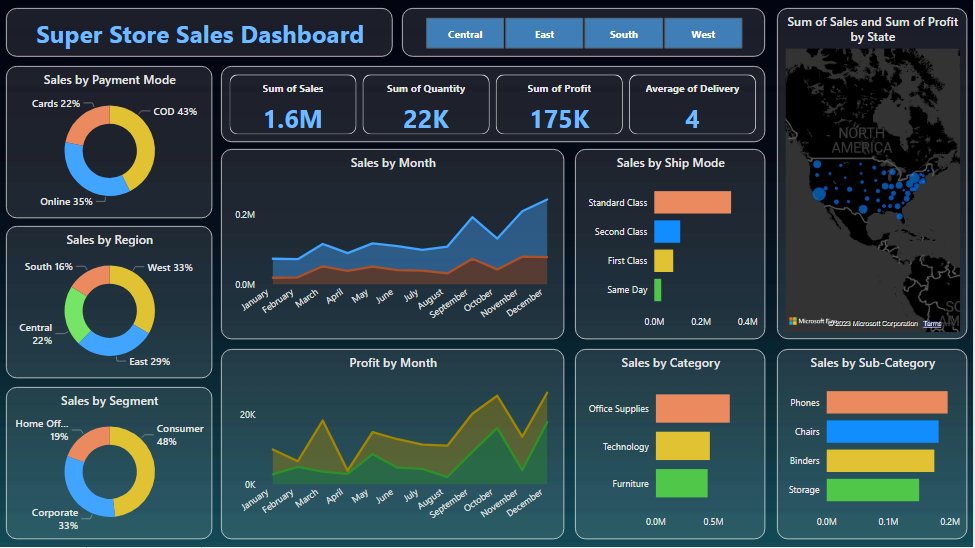

The page's visual inventory and layout, read from the dashboard file:
{"tool":"powerbi","page":{"name":"Dashboard","canvas":[1280,720],"ordinal":0},"visuals":[{"type":"clusteredBarChart","title":"Sales by Category","fields":{"Category":["SuperStore_Sales_Dataset.Category"],"Y":["Sum(SuperStore_Sales_Dataset.Sales)"]},"box":[756.8,459.8,250,249.6],"z":0,"group":"g1"},{"type":"clusteredBarChart","title":"Sales by Sub-Category","fields":{"Category":["SuperStore_Sales_Dataset.Sub-Category"],"Y":["Sum(SuperStore_Sales_Dataset.Sales)"]},"box":[1022.2,459.8,250,249.6],"z":1000,"group":"g1"},{"type":"clusteredBarChart","title":"Sales by Ship Mode","fields":{"Category":["SuperStore_Sales_Dataset.Ship Mode"],"Y":["Sum(SuperStore_Sales_Dataset.Sales)"]},"box":[756.8,197.1,249.6,249.6],"z":2000,"group":"g1"},{"type":"stackedAreaChart","title":"Sales by Month","fields":{"Category":["SuperStore_Sales_Dataset.Order Date.Variation.Date Hierarchy.Month","SuperStore_Sales_Dataset.Order Date.Variation.Date Hierarchy.Day"],"Y":["Sum(SuperStore_Sales_Dataset.Sales)"],"Series":["SuperStore_Sales_Dataset.Order Date.Variation.Date Hierarchy.Year"]},"box":[291.7,197.1,450.7,249.6],"z":3000,"group":"g1"},{"type":"stackedAreaChart","title":"Profit by Month","fields":{"Category":["SuperStore_Sales_Dataset.Order Date.Variation.Date Hierarchy.Month","SuperStore_Sales_Dataset.Order Date.Variation.Date Hierarchy.Day"],"Y":["Sum(SuperStore_Sales_Dataset.Profit)"],"Series":["SuperStore_Sales_Dataset.Order Date.Variation.Date Hierarchy.Year"]},"box":[291.7,459.8,450.7,249.6],"z":4000,"group":"g1"},{"type":"map","fields":{"Category":["SuperStore_Sales_Dataset.State"],"Size":["Sum(SuperStore_Sales_Dataset.Sales)"]},"box":[1022.2,11.8,249.6,434.9],"z":5000,"group":"g1"},{"type":"donutChart","title":"Sales by Segment","fields":{"Y":["Sum(SuperStore_Sales_Dataset.Sales)"],"Category":["SuperStore_Sales_Dataset.Segment"]},"box":[9.2,509.8,270.7,199.7],"z":6000,"group":"g1"},{"type":"donutChart","title":"Sales by Payment Mode","fields":{"Y":["Sum(SuperStore_Sales_Dataset.Sales)"],"Category":["SuperStore_Sales_Dataset.Payment Mode"]},"box":[9.2,87.6,270.7,199.7],"z":7000,"group":"g1"},{"type":"slicer","fields":{"Values":["SuperStore_Sales_Dataset.Region"]},"box":[529.5,11.8,476.9,64.4],"z":8000,"group":"g1"},{"type":"textbox","box":[9.2,11.8,508.5,64.4],"z":9000,"group":"g1"},{"type":"cardVisual","fields":{"Data":["Sum(SuperStore_Sales_Dataset.Sales)","Sum(SuperStore_Sales_Dataset.Quantity)","Sum(SuperStore_Sales_Dataset.Profit)","Avg(SuperStore_Sales_Dataset.AvgDelivery)"]},"box":[291.7,88,714.7,99.9],"z":10000,"group":"g1"},{"type":"donutChart","title":"Sales by Region","fields":{"Y":["Sum(SuperStore_Sales_Dataset.Sales)"],"Category":["SuperStore_Sales_Dataset.Region"]},"box":[9.2,298.7,270.7,199.7],"z":11000,"group":"g1"},{"type":"group","id":"g1","title":"Group 1","box":[9.2,11.8,1263,697.7],"z":11001}]}

Visuals, with their boxes in screenshot pixels (x1, y1, x2, y2), scaled from the page's 1280x720 canvas onto the 975x548 screenshot:
"Sales by Category" clusteredBarChart: left=576, top=350, right=767, bottom=540
"Sales by Sub-Category" clusteredBarChart: left=779, top=350, right=969, bottom=540
"Sales by Ship Mode" clusteredBarChart: left=576, top=150, right=767, bottom=340
"Sales by Month" stackedAreaChart: left=222, top=150, right=566, bottom=340
"Profit by Month" stackedAreaChart: left=222, top=350, right=566, bottom=540
map - SuperStore_Sales_Dataset.State x Sum(SuperStore_Sales_Dataset.Sales): left=779, top=9, right=969, bottom=340
"Sales by Segment" donutChart: left=7, top=388, right=213, bottom=540
"Sales by Payment Mode" donutChart: left=7, top=67, right=213, bottom=219
slicer - SuperStore_Sales_Dataset.Region: left=403, top=9, right=767, bottom=58
textbox: left=7, top=9, right=394, bottom=58
cardVisual - Sum(SuperStore_Sales_Dataset.Sales) x Sum(SuperStore_Sales_Dataset.Quantity): left=222, top=67, right=767, bottom=143
"Sales by Region" donutChart: left=7, top=227, right=213, bottom=379
"Group 1" group: left=7, top=9, right=969, bottom=540
